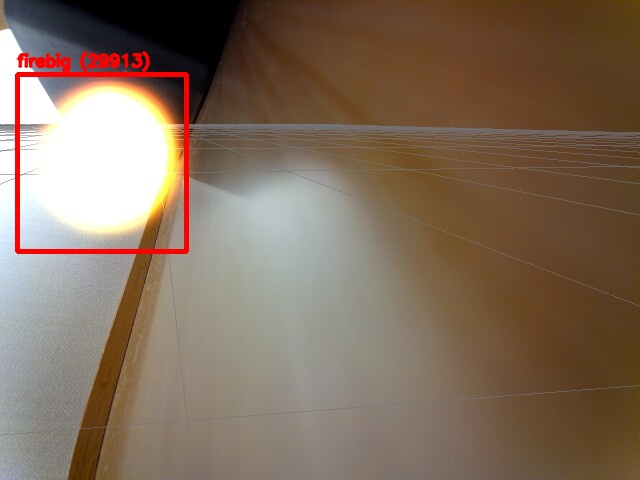firebig: (17, 74, 186, 251)
